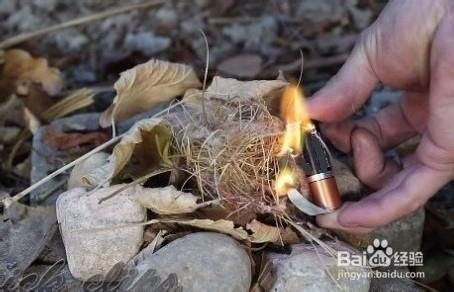fire: (270, 79, 313, 197)
